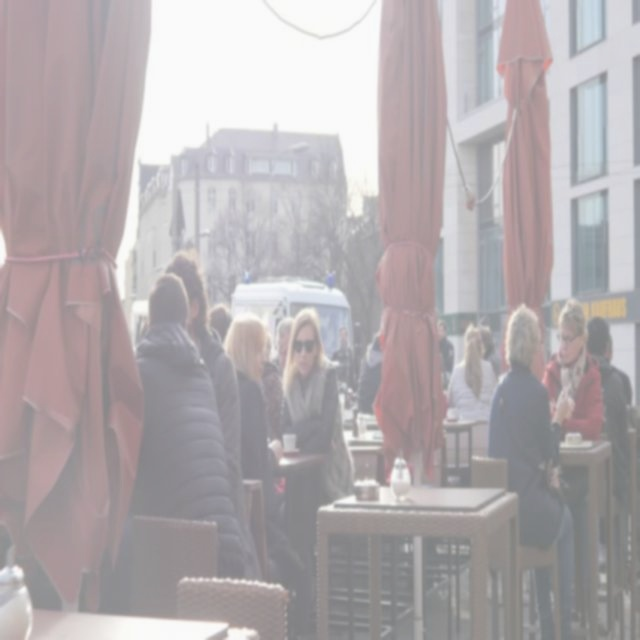pessoa: (134, 270, 251, 582), (163, 249, 262, 582), (484, 297, 578, 639), (279, 304, 356, 559), (222, 314, 284, 570), (586, 314, 632, 572), (586, 330, 632, 574), (538, 298, 604, 446), (444, 321, 498, 424), (258, 329, 284, 447), (355, 326, 383, 414), (201, 298, 238, 346), (331, 324, 356, 388), (271, 316, 295, 380), (436, 320, 456, 392), (474, 318, 496, 336)
